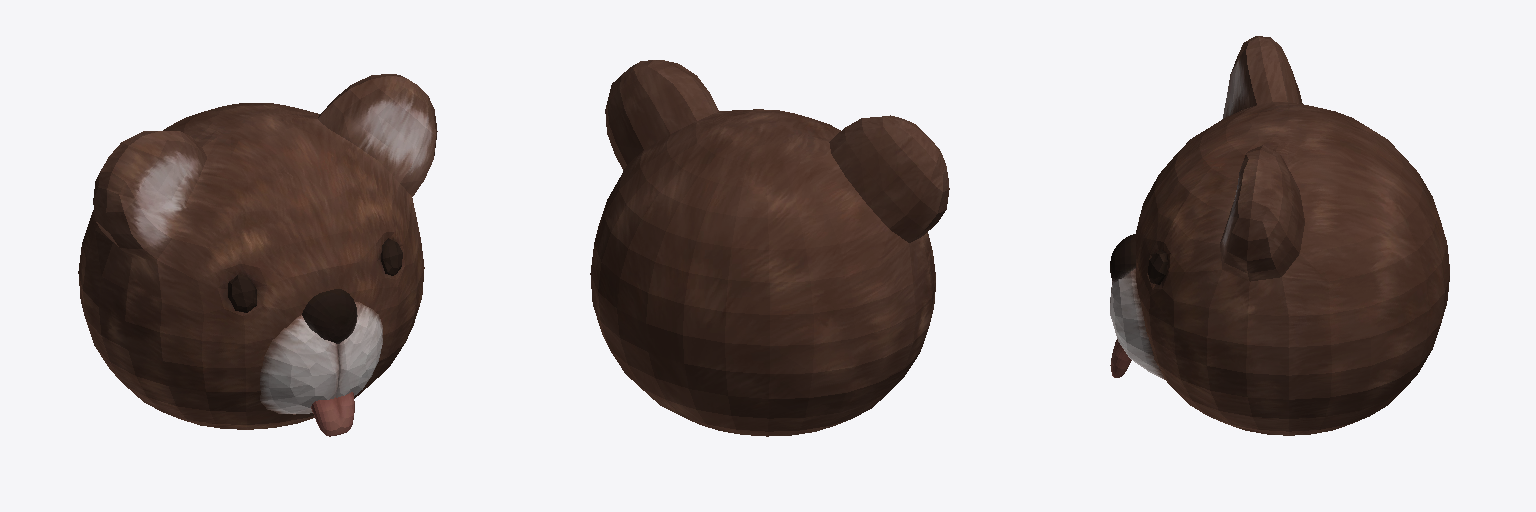
3 renders of one model, left to right at view 1: azimuth 30°, elevation 25°; view 2: azimuth 150°, elevation 25°; view 3: azimuth 270°, elevation 25°, orthographic.
Parts seen in each view (by area): view 1: head; view 2: head; view 3: head.
Boxes of the visible parts, <box> form: head: <box>78,74,437,436</box>; head: <box>590,60,949,436</box>; head: <box>1110,36,1449,435</box>.
Bounding box in the file's own units: 0.4036 × 0.3609 × 0.3528.
1 materials, 1 textured.